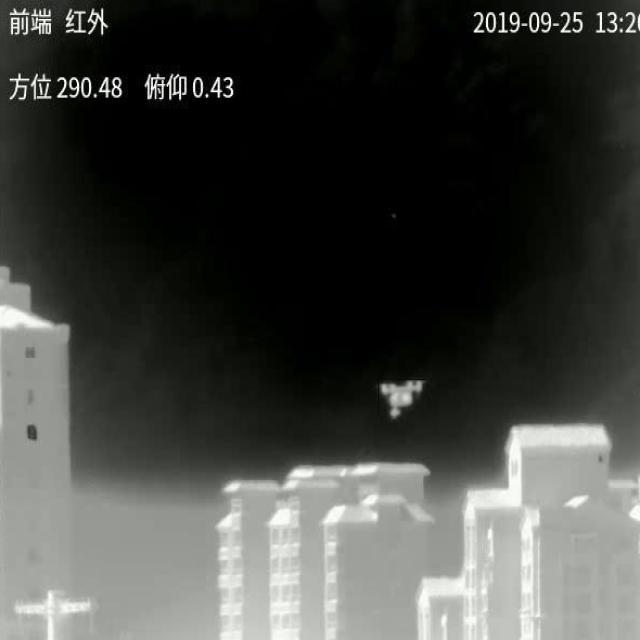drone: (379, 380, 425, 418)
